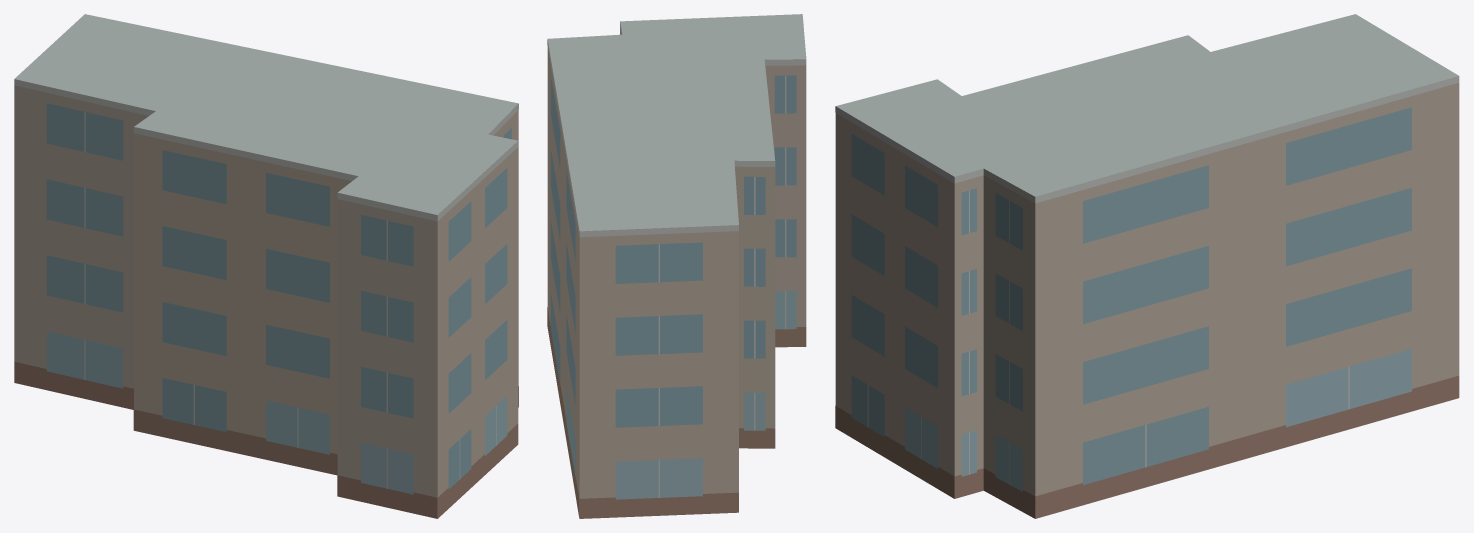
The model's file is survey-upis-32741714.glb.
The picture shows the model from 3 angles, left to right: view 1: azimuth 30°, elevation 25°; view 2: azimuth 150°, elevation 25°; view 3: azimuth 270°, elevation 25°; orthographic projection. The views are drawn at different scales.
Parts seen in each view (by area): view 1: survey-upis-32741714.tmp; view 2: survey-upis-32741714.tmp; view 3: survey-upis-32741714.tmp.
Boxes of the visible parts, left/top/right/bottom form: survey-upis-32741714.tmp: left=14, top=14, right=518, bottom=518; survey-upis-32741714.tmp: left=547, top=14, right=806, bottom=518; survey-upis-32741714.tmp: left=835, top=14, right=1459, bottom=518.
Bounding box in the file's own units: 14.25 × 11.7 × 20.55.
